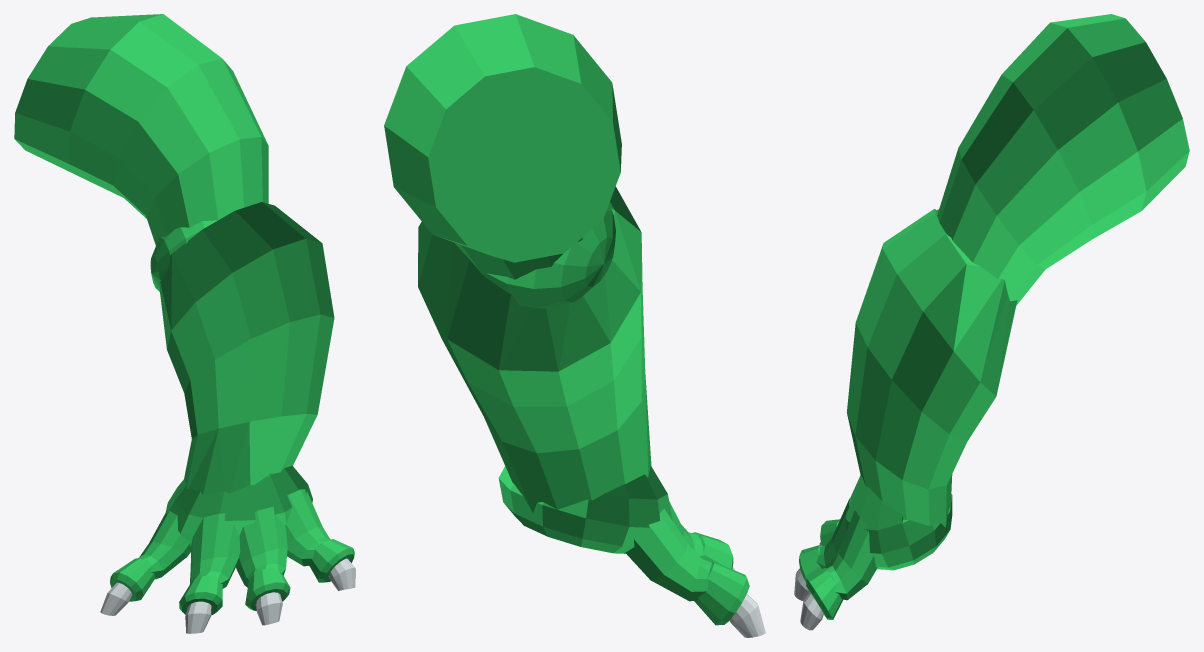
Rendered from LegFinalversion.fbx.
3 renders of one model, left to right at view 1: azimuth 30°, elevation 25°; view 2: azimuth 150°, elevation 25°; view 3: azimuth 270°, elevation 25°, orthographic. The views are drawn at different scales.
Visible parts, largest first — view 1: group1832439925.975, group1236733959, group1335273033; view 2: group1832439925.975, group1236733959, group1335273033; view 3: group1832439925.975, group1236733959, group1335273033.
Part boxes in pixels (box(x1,y1,x2,y2)): group1832439925.975: box(14, 14, 268, 291); group1236733959: box(159, 202, 334, 494); group1335273033: box(100, 465, 355, 633); group1832439925.975: box(384, 14, 621, 308); group1236733959: box(418, 186, 651, 512); group1335273033: box(498, 465, 765, 637); group1832439925.975: box(935, 14, 1189, 305); group1236733959: box(847, 209, 1017, 527); group1335273033: box(794, 475, 952, 630).
Bounding box in the file's own units: 30.19 × 62.95 × 39.
